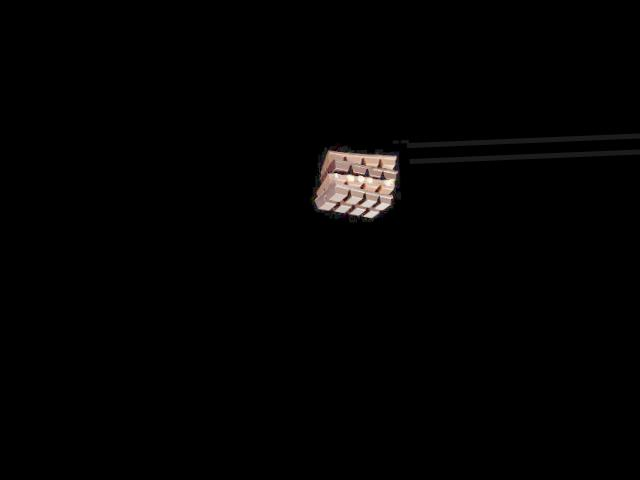chocolate: (318, 145, 398, 219)
